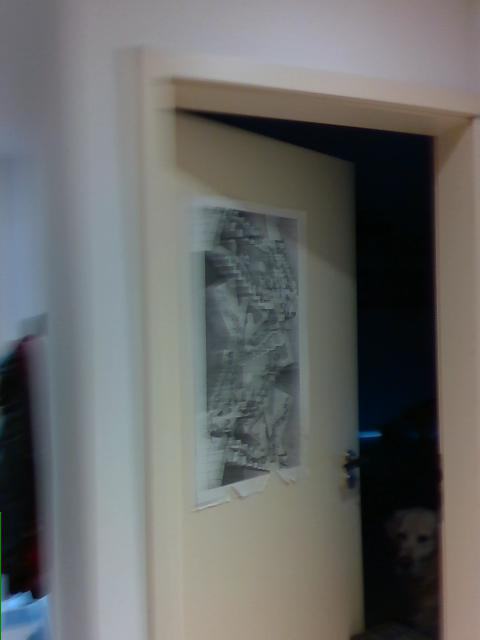semi_door: (119, 41, 479, 639)
